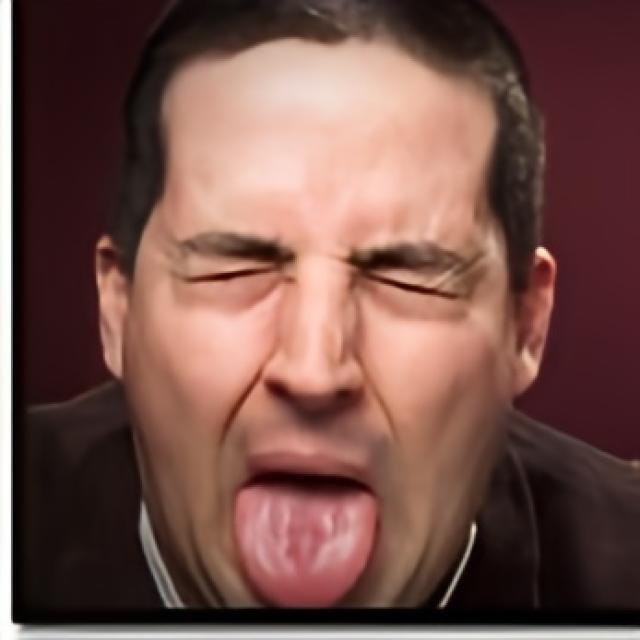disgust: (123, 29, 514, 608)
